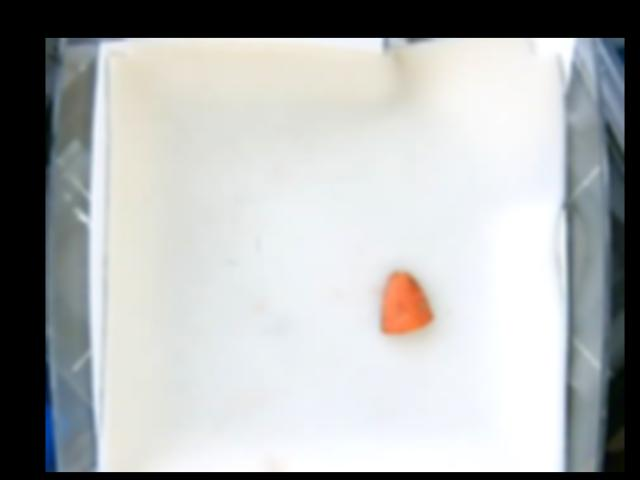Carrot: (381, 269, 434, 334)
